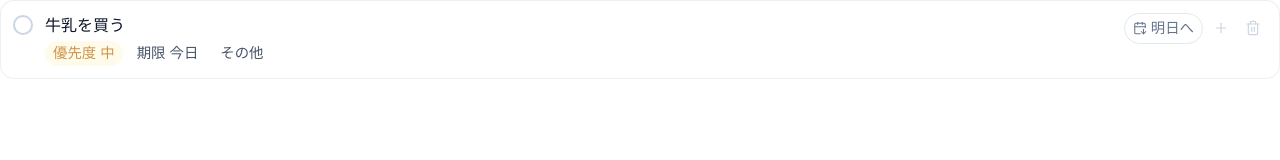
Test: タスクの完了の演出(A-4) › チェックを押すと、取り消し線を引いてから完了を書き込む
The width and height of the screenshot is (1280, 160).
Click the button named "完了切り替え": coordinates (23, 25) [13,15,33,35]
Wait 420 ms
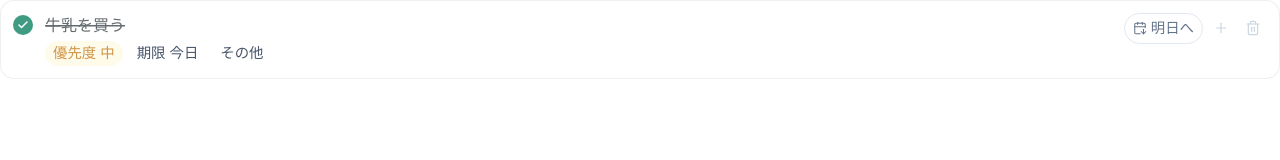
Result: the text "牛乳を買う" is shown at [45,15,125,35]
